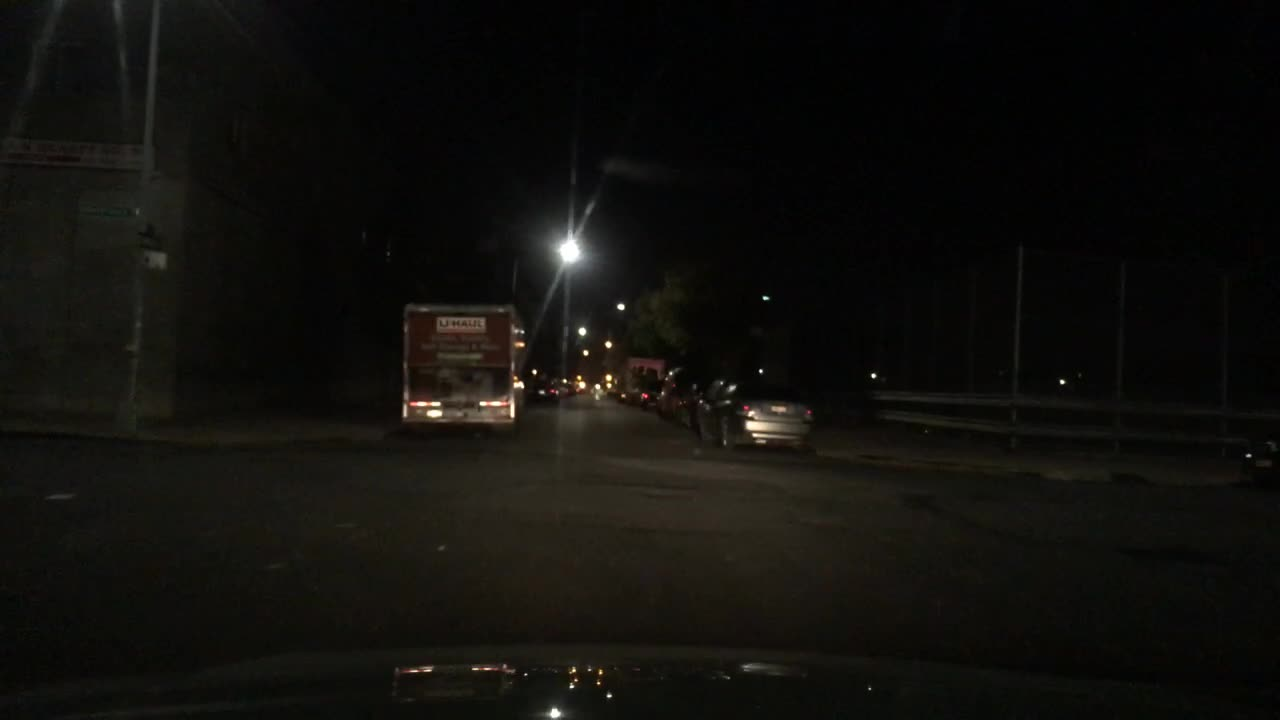car: (699, 381, 811, 447), (656, 369, 696, 416), (1241, 434, 1278, 480), (681, 384, 704, 429), (527, 379, 561, 403), (640, 383, 661, 409), (560, 380, 577, 394), (606, 378, 617, 396)
traffic sign: (139, 242, 165, 268), (79, 207, 134, 217)
truck: (401, 304, 527, 436), (620, 356, 666, 401)
